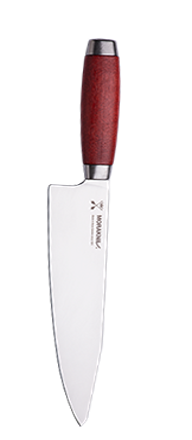knife: (46, 38, 121, 428)
